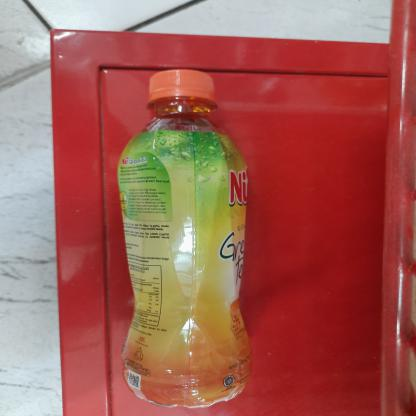bottle: (112, 65, 256, 411)
